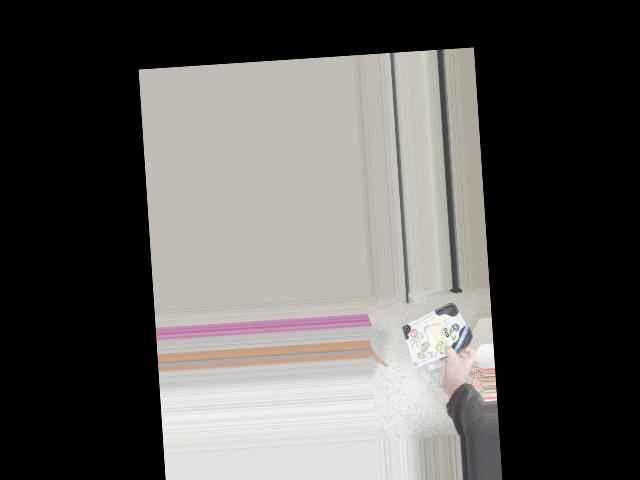cheese: (401, 306, 475, 357)
